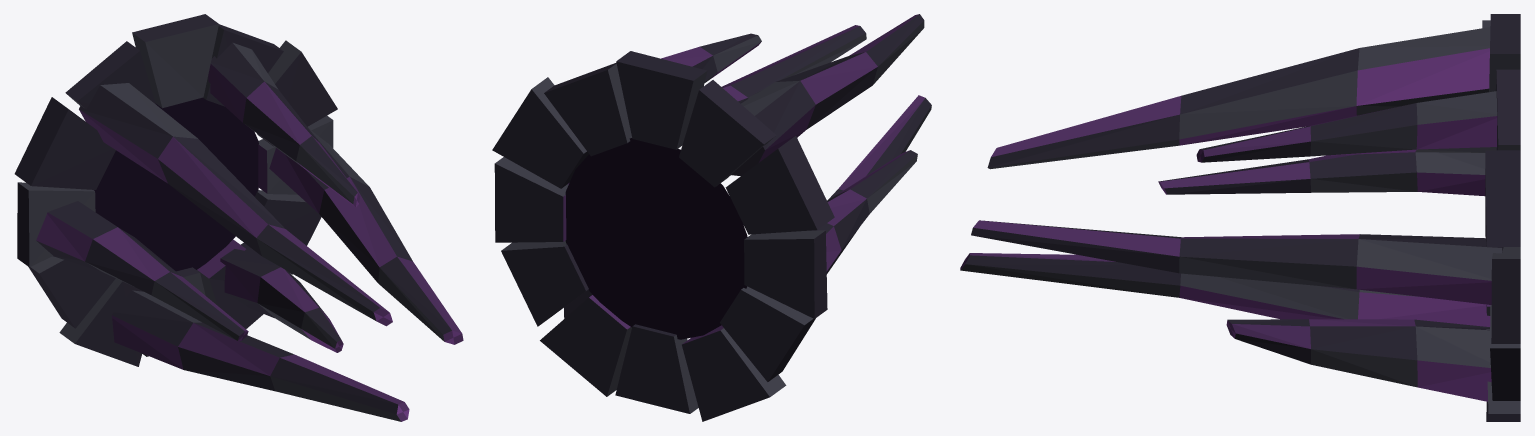
Rendered from void_rift_structure.obj.
3 views of the same model, side by side, from view 1: azimuth 30°, elevation 25°; view 2: azimuth 150°, elevation 25°; view 3: azimuth 270°, elevation 25° (orthographic). The views are drawn at different scales.
Visible parts, largest first — view 1: support_03_crown_rib, support_05_crown_rib, recessed_rift_core, support_01_crown_rib, support_04_broken_shard, support_02_broken_shard, sunken_plinth_06, support_06_broken_shard, sunken_plinth_04, sunken_plinth_08, sunken_plinth_07, sunken_plinth_02 (+6 smaller); view 2: recessed_rift_core, support_03_crown_rib, sunken_plinth_06, sunken_plinth_04, sunken_plinth_07, sunken_plinth_05, sunken_plinth_09, sunken_plinth_02, sunken_plinth_11, sunken_plinth_10, sunken_plinth_01, sunken_plinth_03 (+6 smaller); view 3: support_03_crown_rib, support_01_crown_rib, support_05_crown_rib, support_06_broken_shard, support_02_broken_shard, support_04_broken_shard, sunken_plinth_02, sunken_plinth_01, sunken_plinth_03, sunken_plinth_04, sunken_plinth_12, sunken_plinth_11.
Boxes of the visible parts, box(x1,y1,x2,y2) form: support_03_crown_rib: box(79, 83, 392, 326); support_05_crown_rib: box(111, 290, 409, 421); recessed_rift_core: box(94, 97, 258, 271); support_01_crown_rib: box(269, 127, 463, 344); support_04_broken_shard: box(36, 201, 248, 340); support_02_broken_shard: box(208, 42, 360, 207); sunken_plinth_06: box(14, 97, 115, 189); support_06_broken_shard: box(220, 242, 343, 352); sunken_plinth_04: box(132, 14, 218, 108); sunken_plinth_08: box(28, 256, 115, 328); sunken_plinth_07: box(17, 182, 95, 267); sunken_plinth_02: box(257, 40, 337, 146); recessed_rift_core: box(565, 138, 747, 339); support_03_crown_rib: box(731, 14, 924, 175); sunken_plinth_06: box(725, 136, 834, 234); sunken_plinth_04: box(616, 51, 707, 149); sunken_plinth_07: box(744, 230, 827, 318); sunken_plinth_05: box(679, 80, 776, 187); sunken_plinth_09: box(682, 325, 786, 421); sunken_plinth_02: box(492, 77, 588, 188); sunken_plinth_11: box(540, 295, 631, 396); sunken_plinth_10: box(615, 324, 698, 413); sunken_plinth_01: box(494, 157, 568, 242); sunken_plinth_03: box(544, 63, 631, 156); support_03_crown_rib: box(987, 27, 1490, 169); support_01_crown_rib: box(971, 220, 1503, 304); support_05_crown_rib: box(960, 253, 1490, 326); support_06_broken_shard: box(1226, 319, 1491, 401); support_02_broken_shard: box(1196, 91, 1497, 162); support_04_broken_shard: box(1158, 152, 1485, 196); sunken_plinth_02: box(1485, 150, 1520, 246); sunken_plinth_01: box(1491, 247, 1520, 343); sunken_plinth_03: box(1495, 69, 1520, 150); sunken_plinth_04: box(1489, 14, 1520, 92); sunken_plinth_12: box(1490, 305, 1520, 400); sunken_plinth_11: box(1486, 329, 1520, 421).
Bounding box in the file's own units: 1.71 × 1.71 × 2.38.
